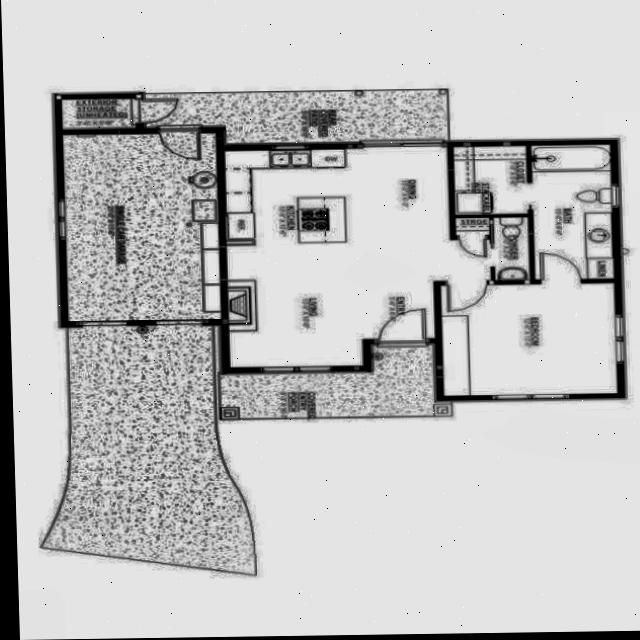room: (224, 146, 491, 367), (62, 130, 221, 323), (440, 284, 617, 396), (531, 144, 612, 281), (453, 146, 527, 214), (494, 217, 529, 280), (62, 99, 135, 129)
